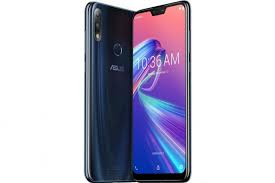asus: (132, 1, 198, 183), (81, 1, 133, 182)
